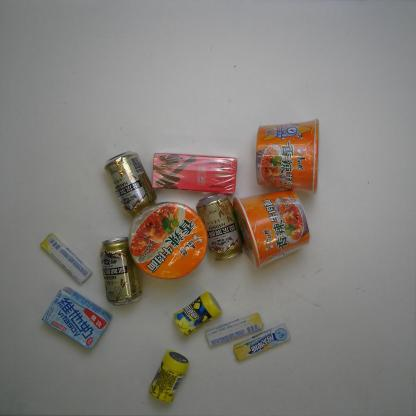Alcohol: (99, 147, 160, 221), (191, 189, 247, 266), (97, 233, 145, 310)
Candy: (38, 231, 93, 287), (229, 320, 297, 364), (203, 307, 268, 350)
Gum: (139, 346, 195, 408), (169, 285, 225, 341)
Instant Drink: (150, 148, 240, 198)
Instant Noodles: (228, 188, 315, 273), (125, 202, 211, 280), (250, 116, 325, 198)
Milk: (38, 284, 116, 350)
